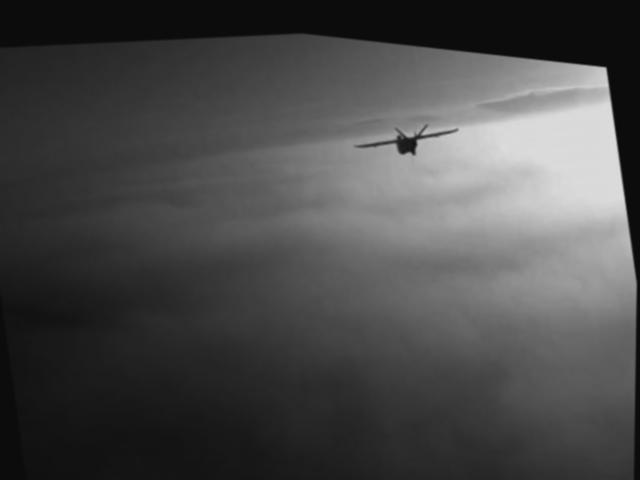hedef: (352, 94, 474, 171)
